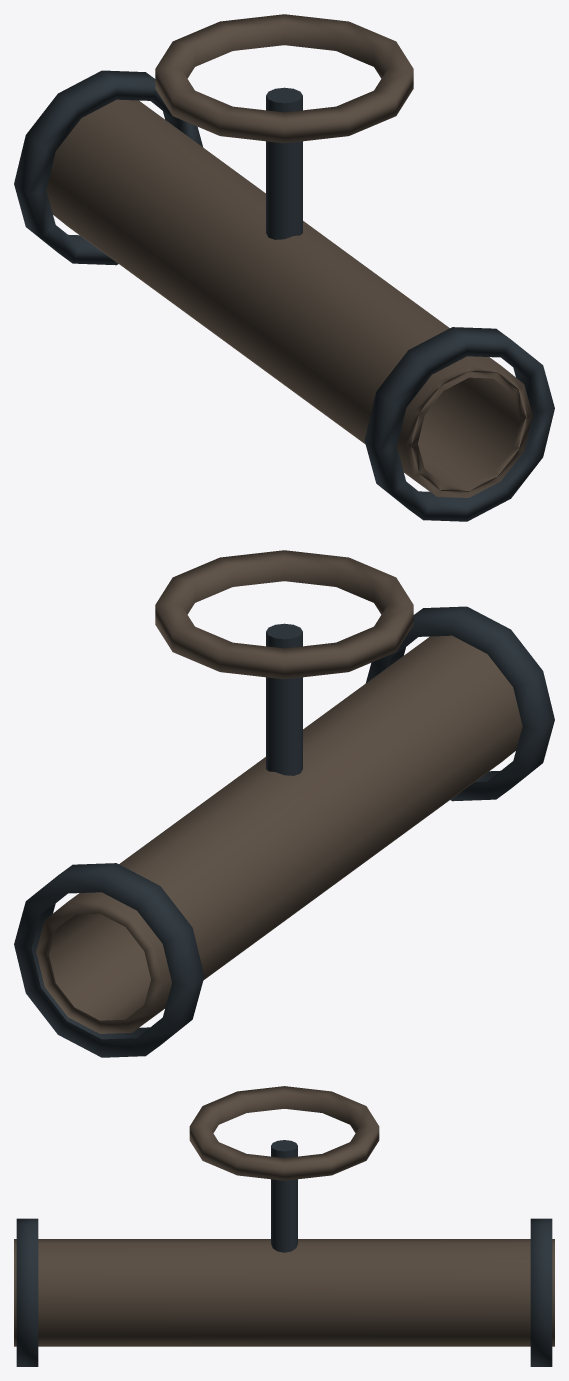
File: valve-3.glb
3 renders of one model, top to bottom at view 1: azimuth 30°, elevation 25°; view 2: azimuth 150°, elevation 25°; view 3: azimuth 270°, elevation 25°, orthographic. The views are drawn at different scales.
Visible parts, largest first — view 1: valve/2/KR-230-3; view 2: valve/2/KR-230-3; view 3: valve/2/KR-230-3.
Boxes of the visible parts, x1,y1,x2,y2 form: valve/2/KR-230-3: (14,14,554,521); valve/2/KR-230-3: (14,550,554,1057); valve/2/KR-230-3: (14,1086,554,1366).
Size of the model in its own units: 0.7 by 0.955 by 2.
